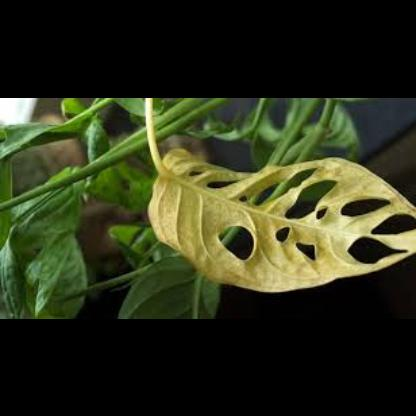agujero: (250, 166, 330, 202), (282, 172, 338, 219), (346, 230, 408, 262), (220, 220, 256, 260), (372, 210, 416, 235), (338, 197, 388, 217), (294, 241, 322, 261), (272, 221, 292, 245), (206, 178, 245, 188), (315, 207, 327, 223), (238, 192, 252, 204), (185, 171, 205, 179)
